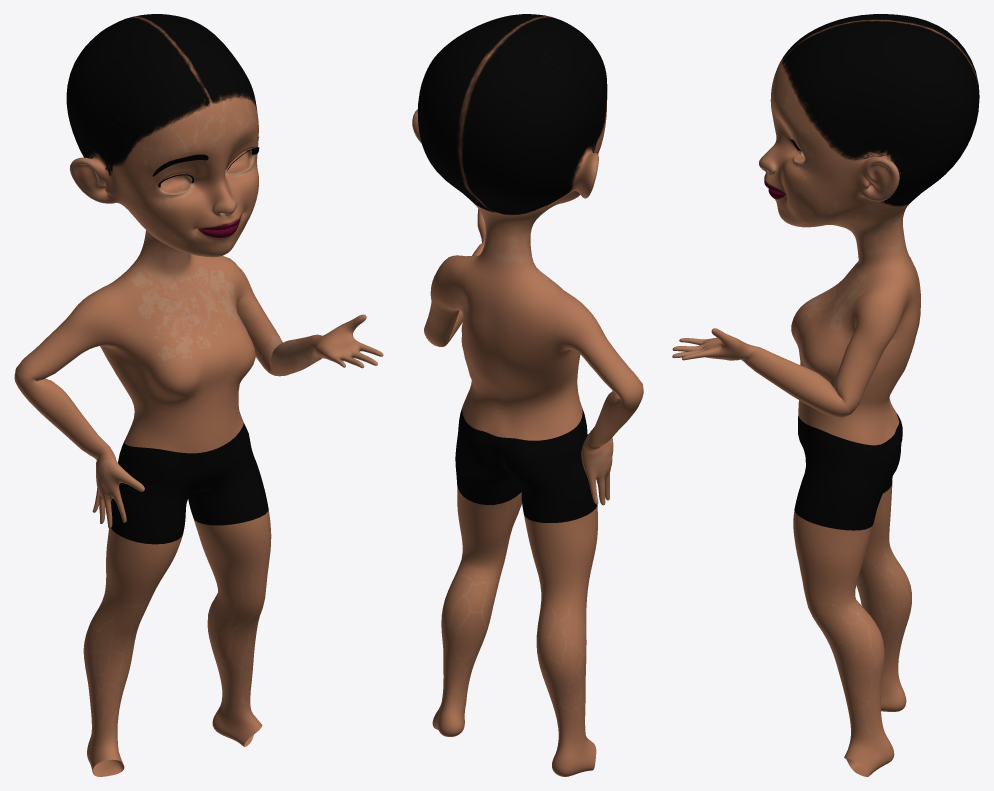
File: Chris_37.obj
3 renders of one model, left to right at view 1: azimuth 30°, elevation 25°; view 2: azimuth 150°, elevation 25°; view 3: azimuth 270°, elevation 25°, orthographic.
Parts seen in each view (by area): view 1: Body_FemaleStylizedAnimeBasemeshLowpoly.001; view 2: Body_FemaleStylizedAnimeBasemeshLowpoly.001; view 3: Body_FemaleStylizedAnimeBasemeshLowpoly.001.
Part boxes in pixels (x1,y1,x2,y2): Body_FemaleStylizedAnimeBasemeshLowpoly.001: (14,14,383,776); Body_FemaleStylizedAnimeBasemeshLowpoly.001: (412,14,643,776); Body_FemaleStylizedAnimeBasemeshLowpoly.001: (672,14,979,776).
Bounding box in the file's own units: 4.65 × 12.62 × 4.9.
